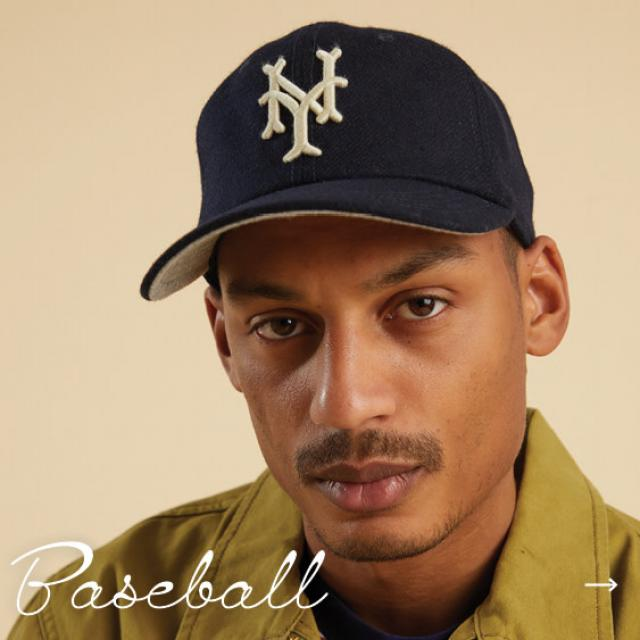suspicious-objects: (141, 22, 537, 301)
